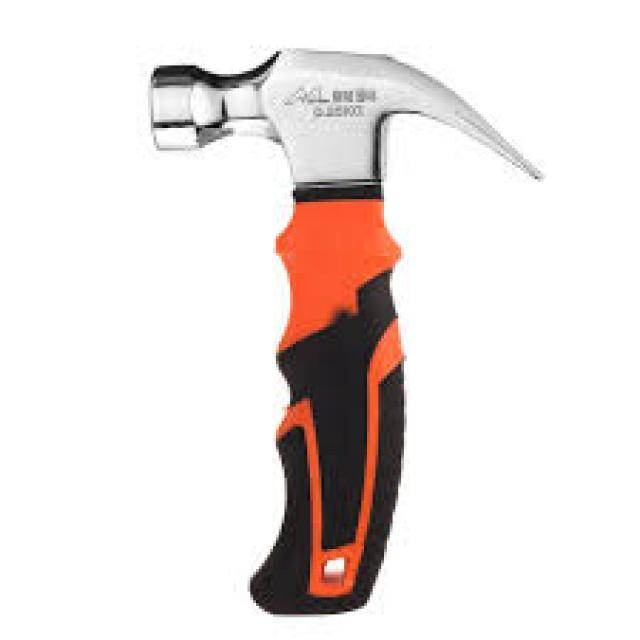hammer: (135, 32, 550, 630)
